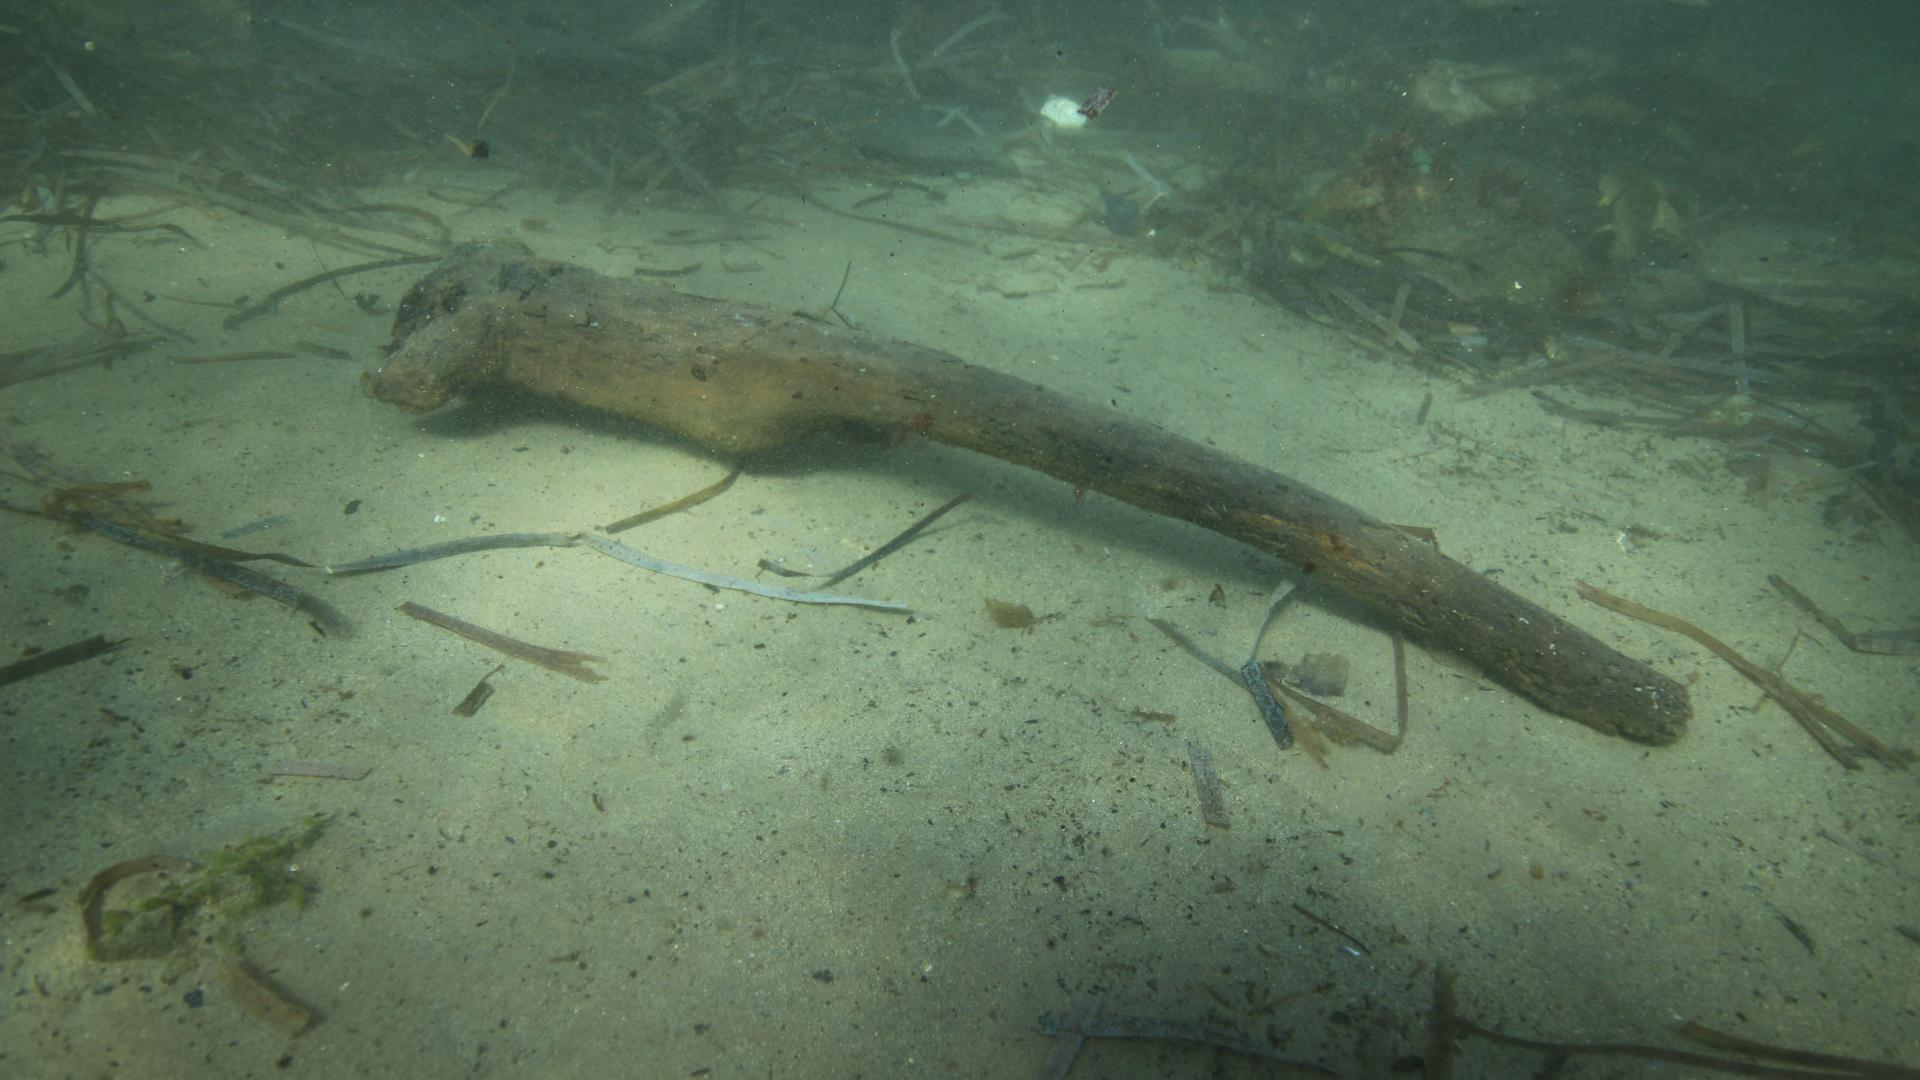wood: (359, 237, 1695, 748)
